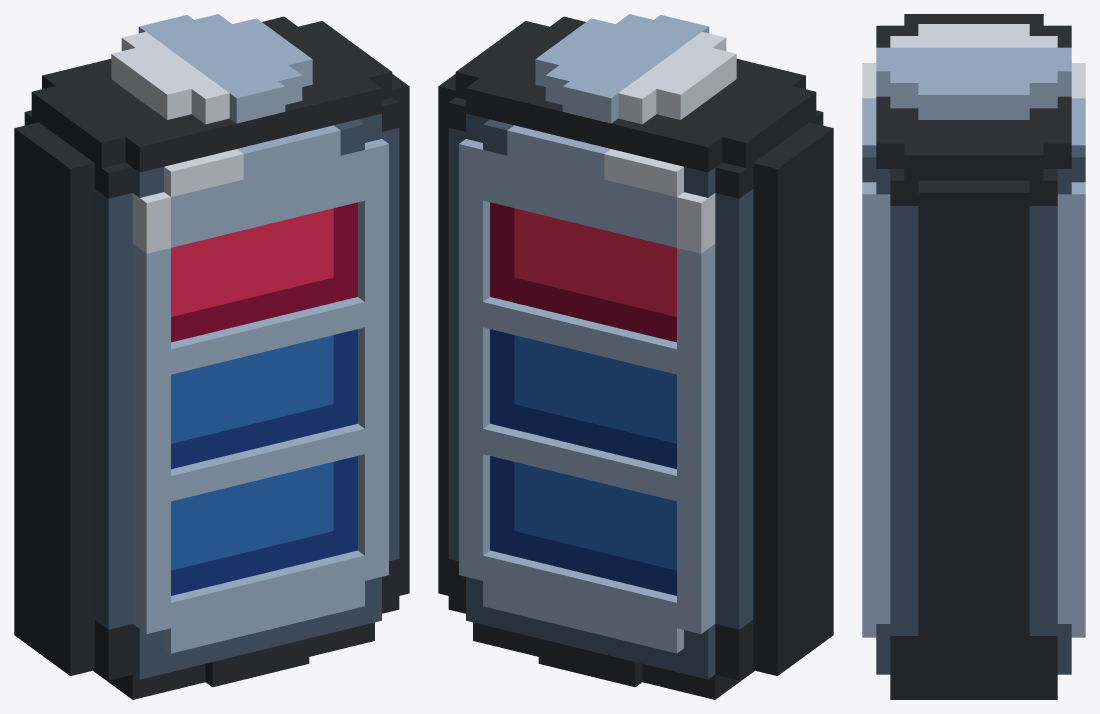
The model's file is Pbat3.fbx.
The picture shows the model from 3 angles, left to right: view 1: azimuth 30°, elevation 25°; view 2: azimuth 150°, elevation 25°; view 3: azimuth 270°, elevation 25°; orthographic projection.
Parts seen in each view (by area): view 1: generated; view 2: generated; view 3: generated.
Part boxes in pixels (x1,y1,x2,y2): generated: (14,14,409,699); generated: (438,14,833,699); generated: (862,14,1085,699).
Bounding box in the file's own units: 14 × 23 × 8.
